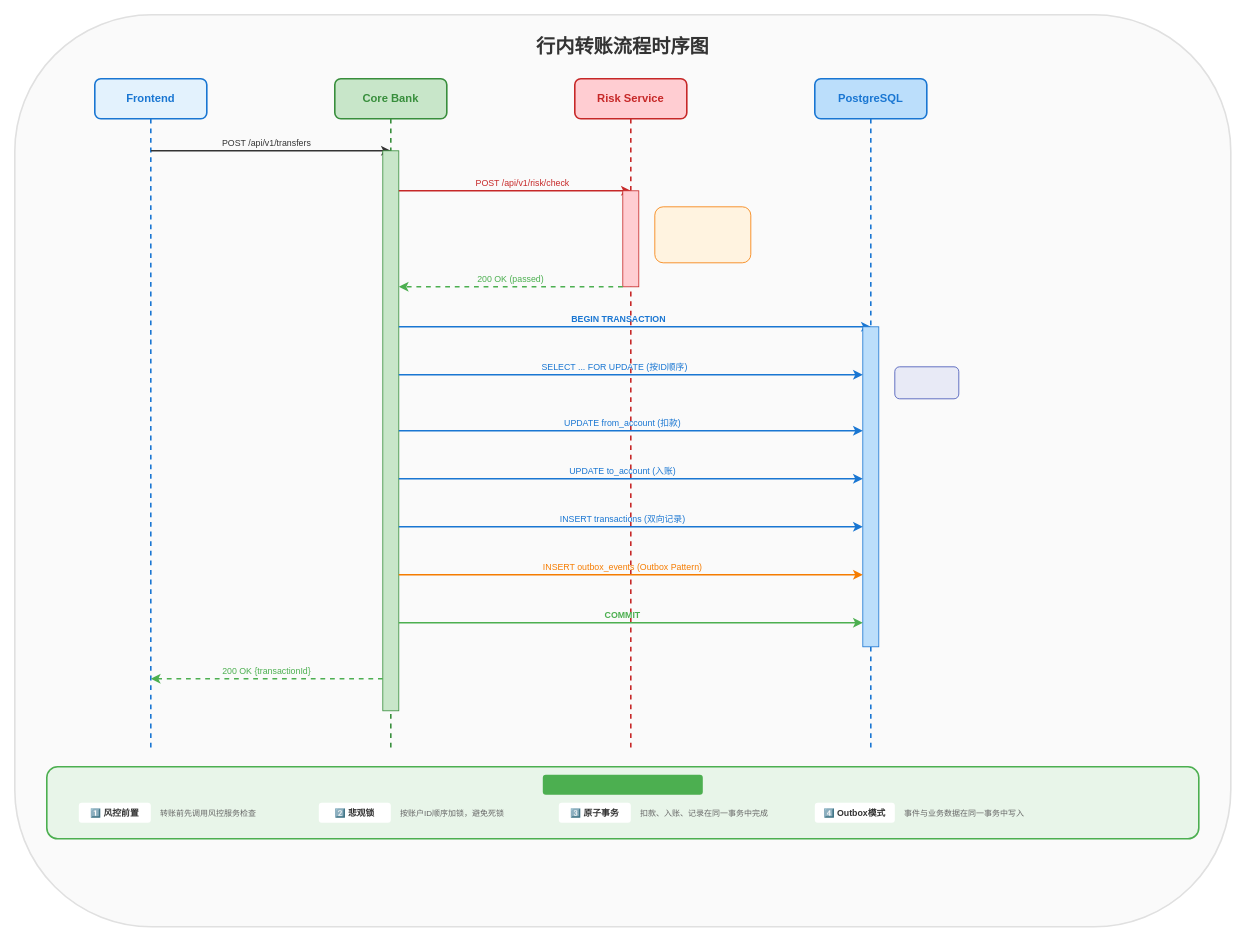
This 1245x941 diagram has some shape labels left out. The shapes that lost their labels are listed below. From the top down, each one's centre as x and y in pixels, then its label:
(x=702, y=234): 规则引擎检查 • 限额规则 • 频率规则 • 黑名单规则
(x=926, y=382): 悲观锁加锁 避免死锁
(x=622, y=784): 关键设计要点
